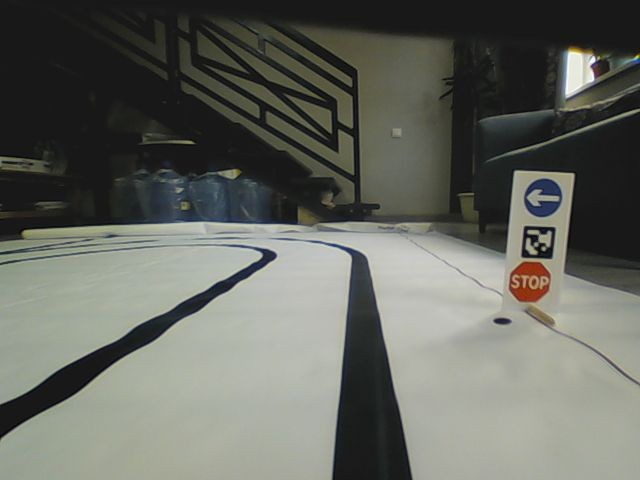Stop: (507, 260, 551, 302)
